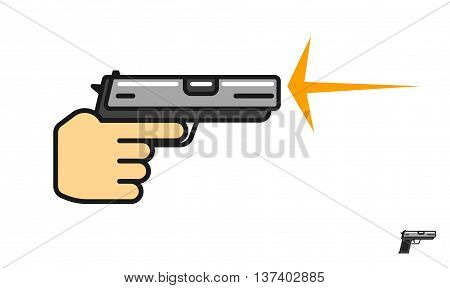pistol: (39, 57, 288, 210)
